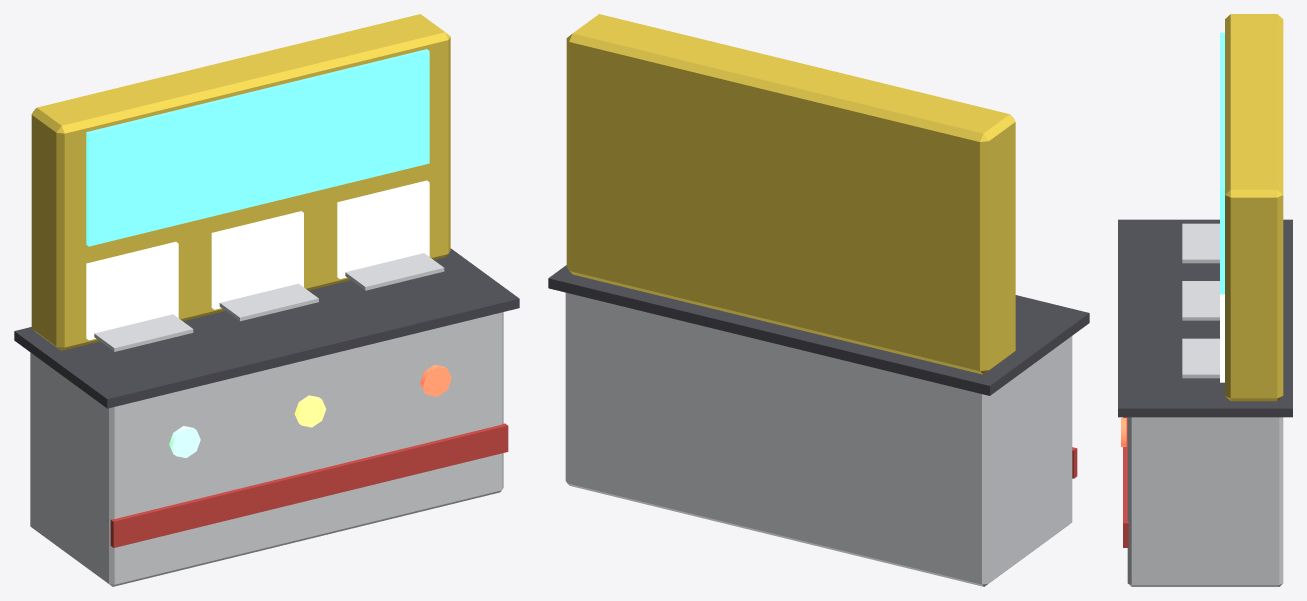
File: mp_autochef.glb
The picture shows the model from 3 angles, left to right: view 1: azimuth 30°, elevation 25°; view 2: azimuth 150°, elevation 25°; view 3: azimuth 270°, elevation 25°; orthographic projection. The views are drawn at different scales.
Parts seen in each view (by area): view 1: mp_autochef; view 2: mp_autochef; view 3: mp_autochef.
Boxes of the visible parts, <box> form: mp_autochef: <box>14,14,519,586</box>; mp_autochef: <box>548,14,1089,586</box>; mp_autochef: <box>1118,14,1292,586</box>.
Bounding box in the file's own units: 2.3 × 2.25 × 0.9.
